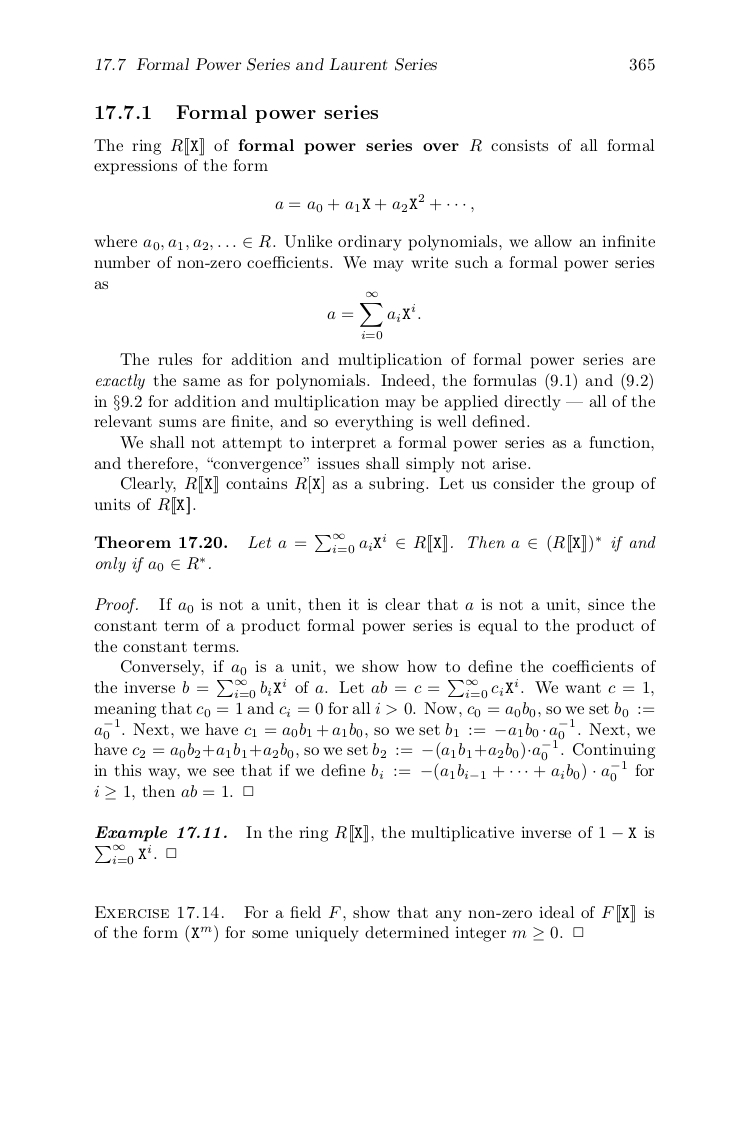formula: (327, 291, 420, 339), (275, 193, 473, 213), (95, 844, 176, 864)
